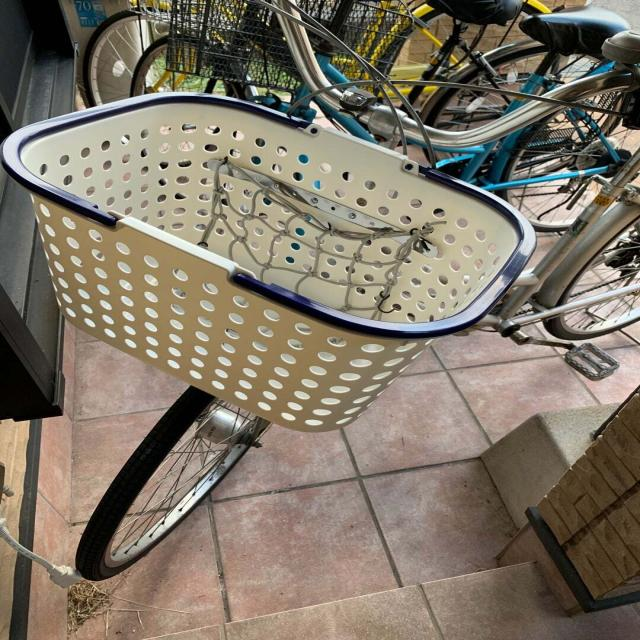basket: (1, 92, 532, 433), (157, 0, 411, 81)
